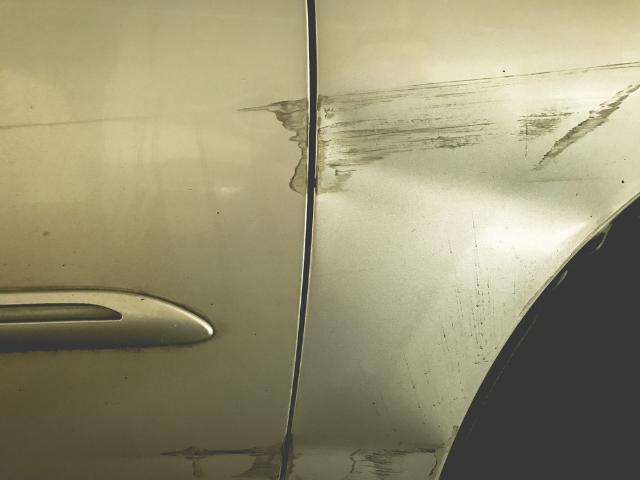scratch: (315, 62, 640, 195), (237, 96, 310, 200), (339, 422, 462, 480), (157, 444, 291, 480)
